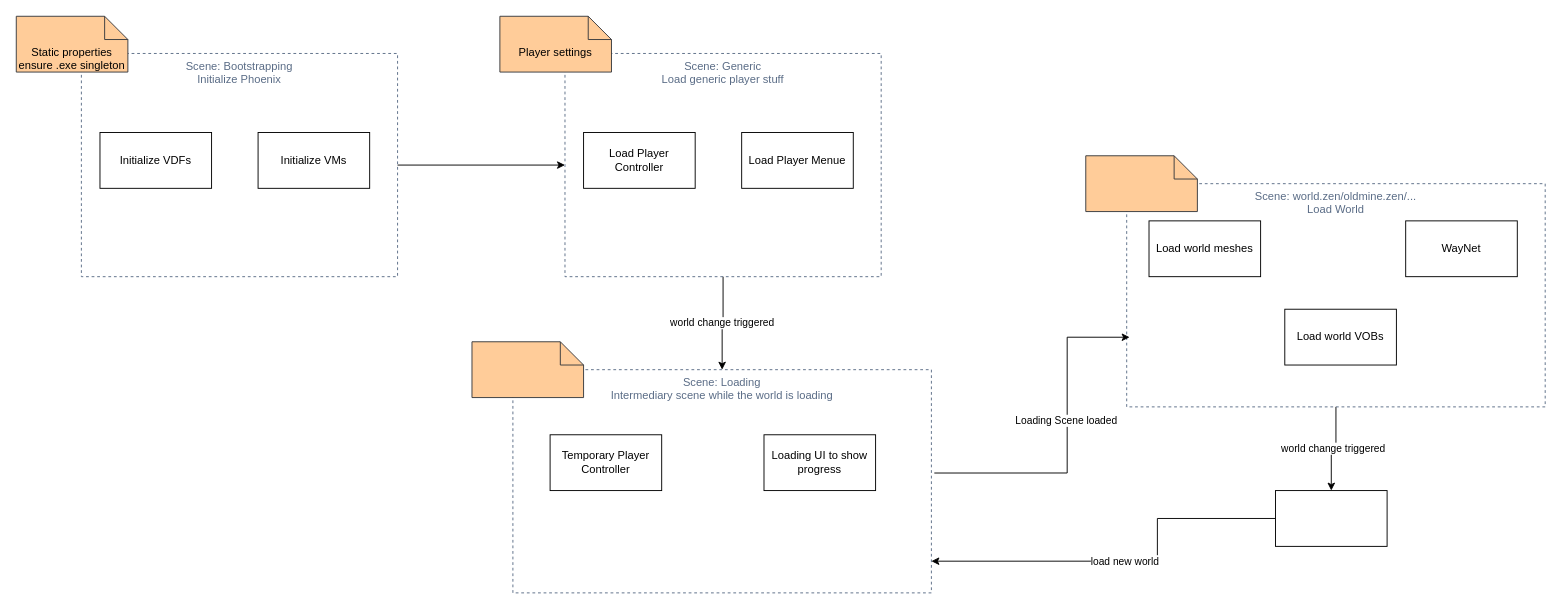
The diagram is 1561 pixels wide and 609 high, and some of its shapes have lost their labels. The centre of each missing label's shape, as x and y in pixels:
"Elements loaded into scene" belongs at (1141,183).
"Loading Scene" belongs at (527,369).
"unload scene and all world stuff" belongs at (1331,518).
